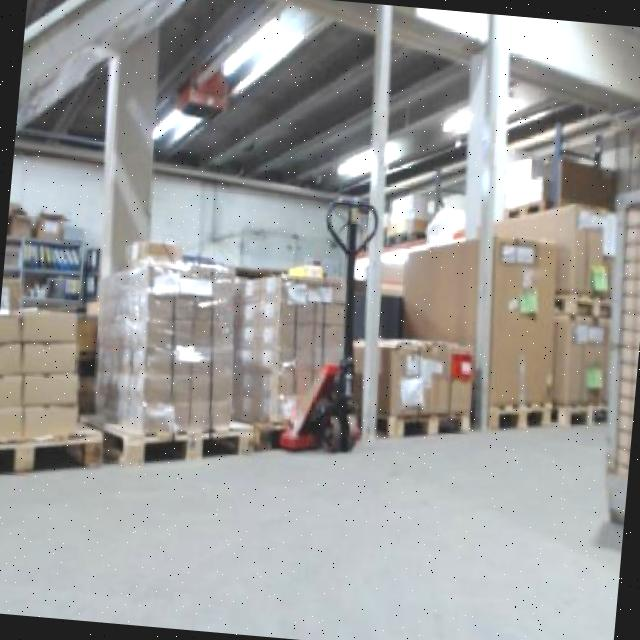pallet: (95, 412, 262, 470), (0, 415, 112, 478), (374, 404, 480, 446), (481, 397, 557, 438), (547, 289, 621, 324), (551, 396, 615, 430), (499, 192, 556, 224)
